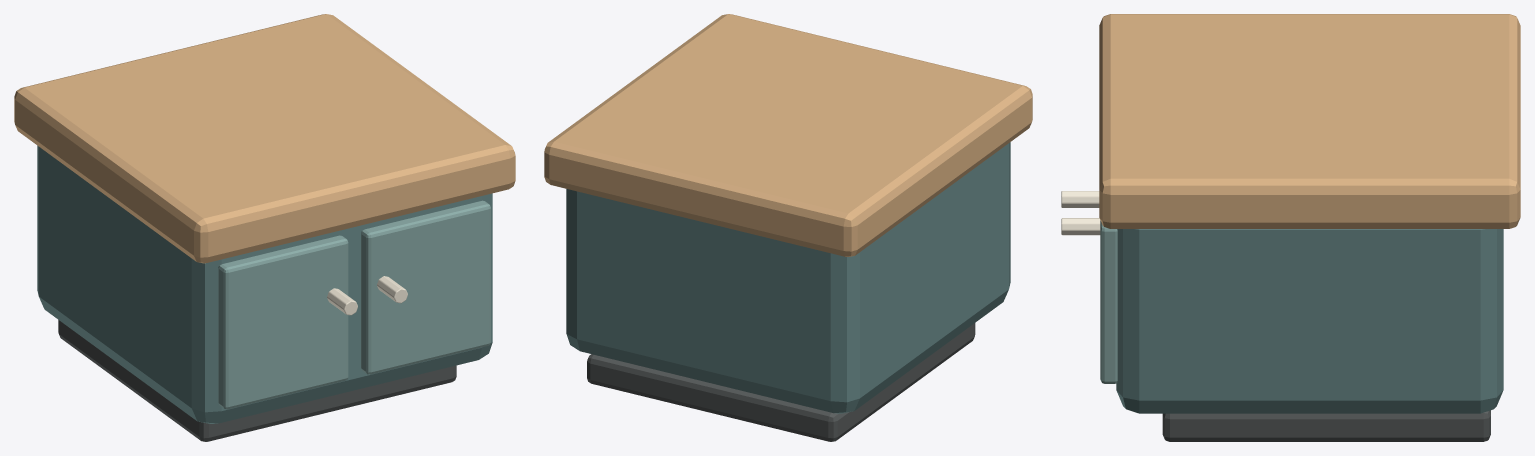
File: cabinet.glb
The picture shows the model from 3 angles, left to right: view 1: azimuth 30°, elevation 25°; view 2: azimuth 150°, elevation 25°; view 3: azimuth 270°, elevation 25°; orthographic projection. The views are drawn at different scales.
Visible parts, largest first — view 1: cabinetTop, cabinetBody, cabinetDoorL, cabinetDoorR, cabinetPlinth, cabinetHandleR, cabinetHandleL; view 2: cabinetTop, cabinetBody, cabinetPlinth; view 3: cabinetTop, cabinetBody, cabinetPlinth, cabinetDoorR, cabinetHandleR, cabinetHandleL.
Boxes of the visible parts, <box> form: cabinetTop: <box>14,14,515,263</box>; cabinetBody: <box>37,145,492,423</box>; cabinetDoorL: <box>218,235,348,409</box>; cabinetDoorR: <box>361,200,490,374</box>; cabinetPlinth: <box>58,320,456,441</box>; cabinetHandleR: <box>377,276,407,303</box>; cabinetHandleL: <box>327,288,357,315</box>; cabinetTop: <box>544,14,1032,256</box>; cabinetBody: <box>566,142,1010,413</box>; cabinetPlinth: <box>587,323,975,441</box>; cabinetTop: <box>1099,14,1520,228</box>; cabinetBody: <box>1116,229,1503,413</box>; cabinetPlinth: <box>1162,410,1490,441</box>; cabinetDoorR: <box>1100,220,1117,383</box>; cabinetHandleR: <box>1061,218,1100,235</box>; cabinetHandleL: <box>1061,191,1099,207</box>.
Size of the model in its own units: 0.9 by 0.67 by 1.
